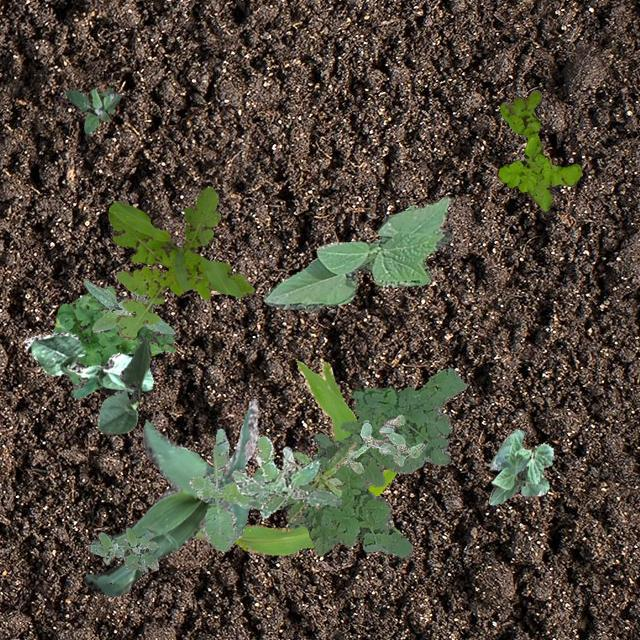crop: (192, 360, 396, 554), (84, 398, 258, 596), (262, 196, 449, 312), (23, 332, 154, 394), (96, 336, 150, 434), (488, 428, 552, 504)
weed: (284, 367, 466, 558), (108, 185, 252, 338), (51, 284, 176, 398), (188, 428, 278, 550), (498, 88, 580, 210), (230, 446, 342, 516), (284, 439, 356, 522), (82, 280, 174, 334), (340, 413, 424, 472), (86, 526, 158, 572), (64, 86, 120, 134), (316, 444, 321, 452)
